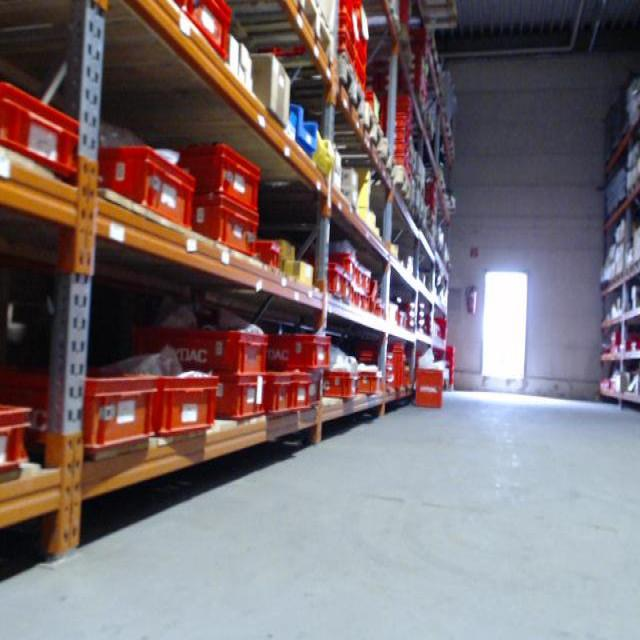pallet: (164, 3, 338, 76), (244, 59, 368, 122), (283, 105, 387, 163), (332, 133, 398, 189), (371, 160, 414, 211)
small_load_carrier: (1, 365, 157, 457), (83, 145, 198, 237), (2, 78, 90, 181), (153, 144, 256, 213), (135, 323, 270, 375), (142, 368, 221, 437), (188, 192, 258, 264), (174, 0, 242, 61), (213, 375, 270, 428), (257, 334, 329, 375), (0, 403, 35, 481), (412, 360, 445, 411), (309, 258, 344, 303), (319, 29, 355, 71), (282, 366, 315, 409), (265, 368, 293, 418), (322, 369, 360, 402), (251, 234, 283, 272), (331, 10, 359, 52), (348, 371, 384, 401), (332, 249, 358, 282), (332, 0, 361, 28), (347, 353, 392, 365), (341, 272, 354, 310), (352, 365, 396, 376), (361, 268, 374, 294), (349, 288, 360, 310), (382, 378, 397, 394), (356, 265, 361, 288)
